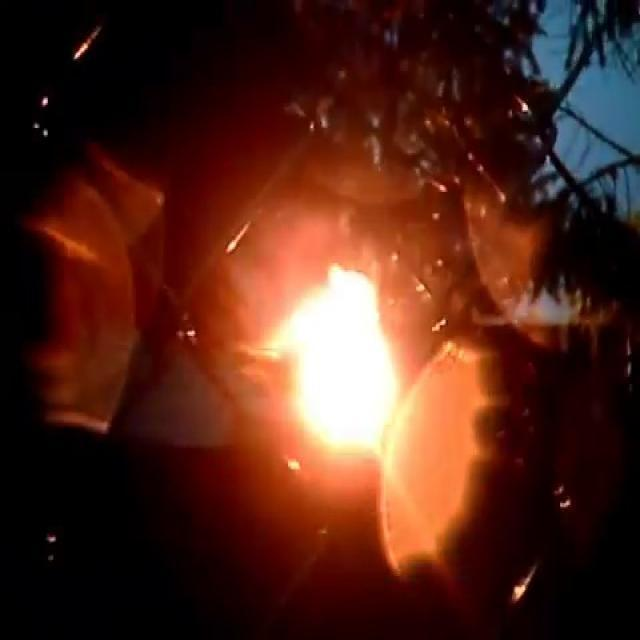Fire: (256, 253, 419, 471)
Smoke: (190, 107, 450, 281)
